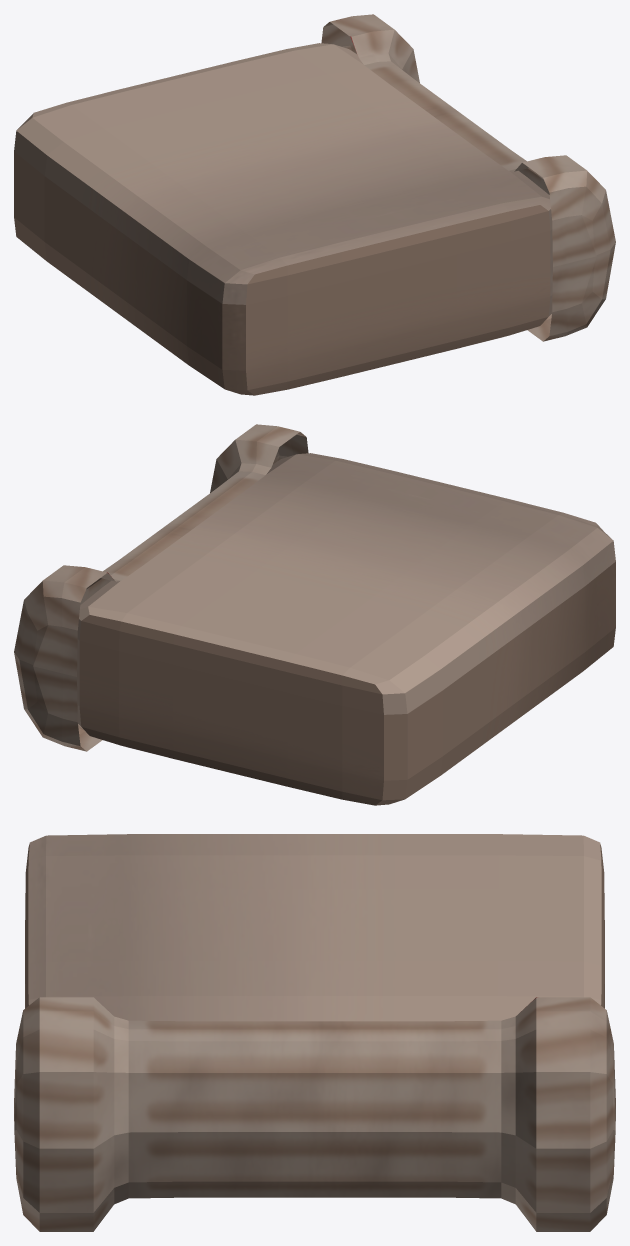
The model's file is F_Platform_5.fbx.
3 views of the same model, one above another, from view 1: azimuth 30°, elevation 25°; view 2: azimuth 150°, elevation 25°; view 3: azimuth 270°, elevation 25° (orthographic). The views are drawn at different scales.
Parts seen in each view (by area): view 1: F_Platform_5; view 2: F_Platform_5; view 3: F_Platform_5.
Part boxes in pixels (left/top/right/bottom): F_Platform_5: left=14, top=14, right=615, bottom=395; F_Platform_5: left=14, top=424, right=615, bottom=805; F_Platform_5: left=14, top=834, right=615, bottom=1231.
Size of the model in its own units: 4.38 by 1.7 by 4.26.
Materials: 1 (1 with a texture image).
